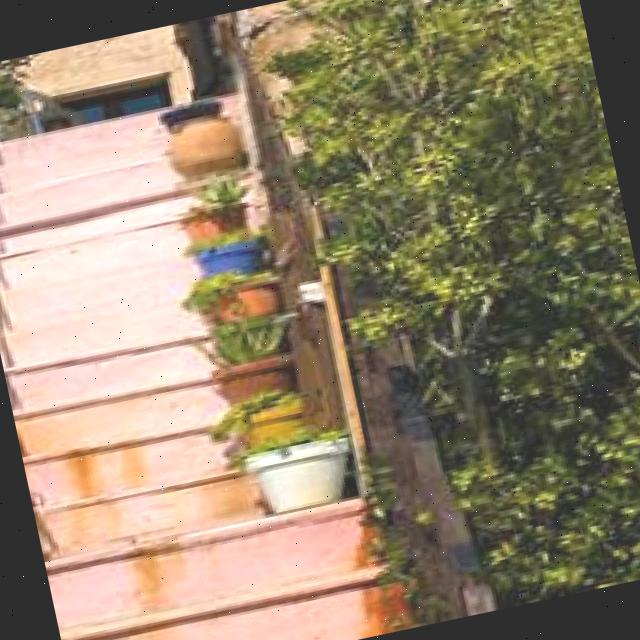stairs: (0, 72, 412, 640)
